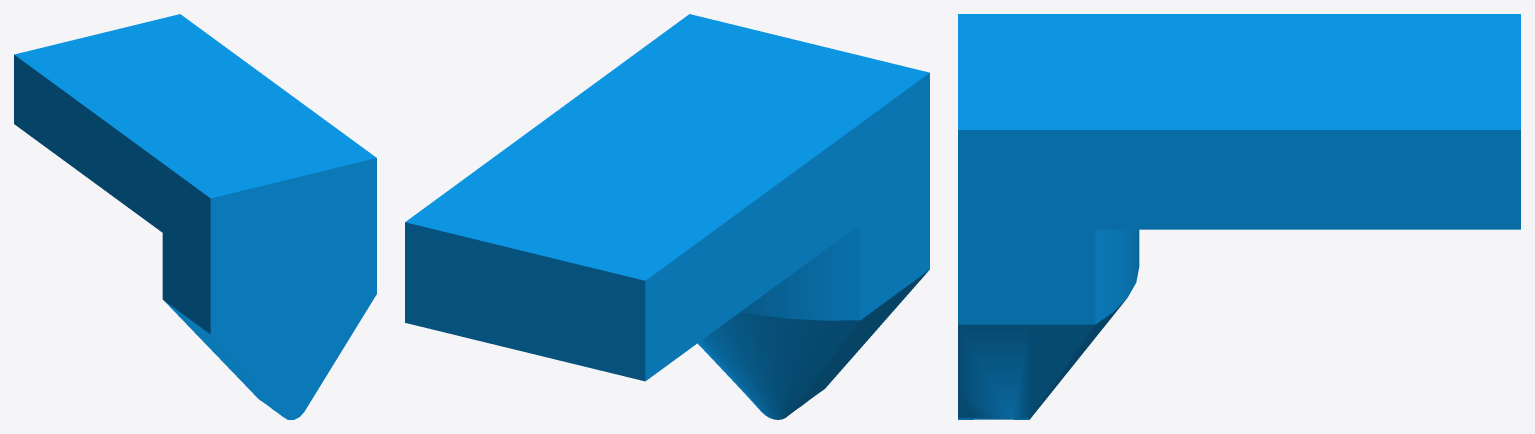
The model's file is GripJaw.obj.
The picture shows the model from 3 angles, left to right: view 1: azimuth 30°, elevation 25°; view 2: azimuth 150°, elevation 25°; view 3: azimuth 270°, elevation 25°; orthographic projection. The views are drawn at different scales.
Bounding box in the file's own units: 0.025 × 0.0348 × 0.0513.
